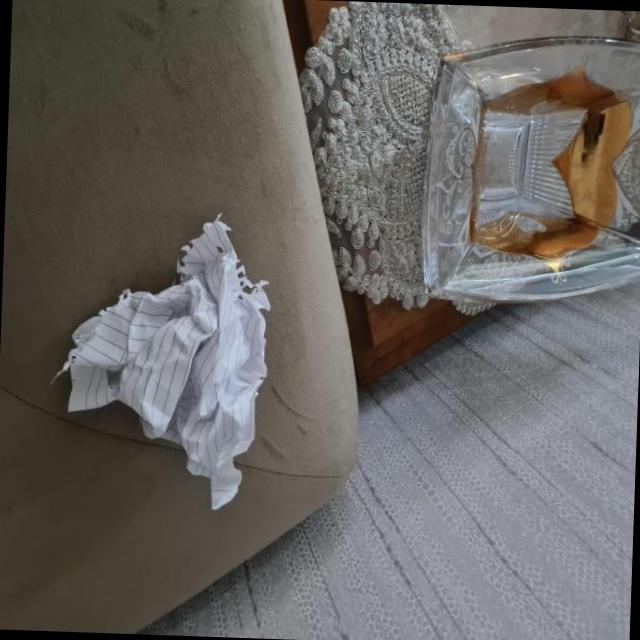cardboard paper: (50, 214, 272, 513)
